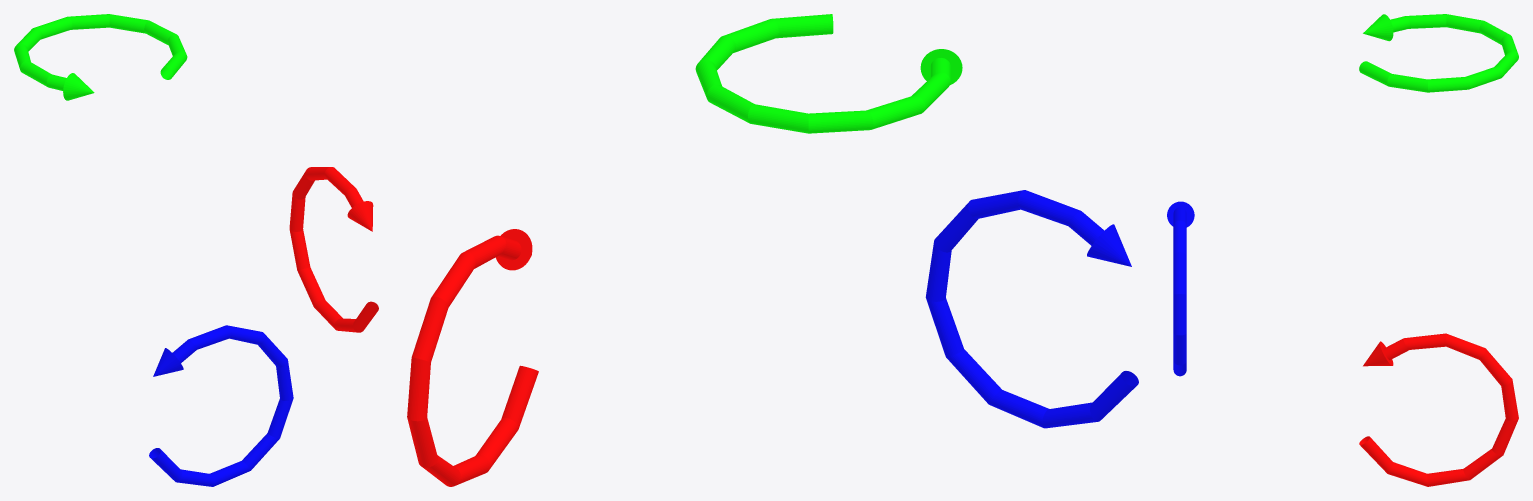
Rendered from gizmo-rot.glb.
The picture shows the model from 3 angles, left to right: view 1: azimuth 30°, elevation 25°; view 2: azimuth 150°, elevation 25°; view 3: azimuth 270°, elevation 25°; orthographic projection. The views are drawn at different scales.
Parts seen in each view (by area): view 1: Cylinder.003, Cylinder.001, Cylinder.002; view 2: Cylinder.003, Cylinder.001, Cylinder.002; view 3: Cylinder.001, Cylinder.002, Cylinder.003.
Boxes of the visible parts, left/top/right/bottom form: Cylinder.003: left=149, top=325, right=293, bottom=486; Cylinder.001: left=289, top=167, right=378, bottom=332; Cylinder.002: left=14, top=14, right=187, bottom=100; Cylinder.003: left=925, top=190, right=1138, bottom=428; Cylinder.001: left=407, top=229, right=538, bottom=486; Cylinder.002: left=695, top=14, right=962, bottom=133; Cylinder.001: left=1359, top=333, right=1518, bottom=486; Cylinder.002: left=1359, top=14, right=1518, bottom=92; Cylinder.003: left=1167, top=201, right=1194, bottom=376.
Bounding box in the file's own units: 0.469 × 0.4677 × 0.4476.
Materials: 1 (1 with a texture image).
